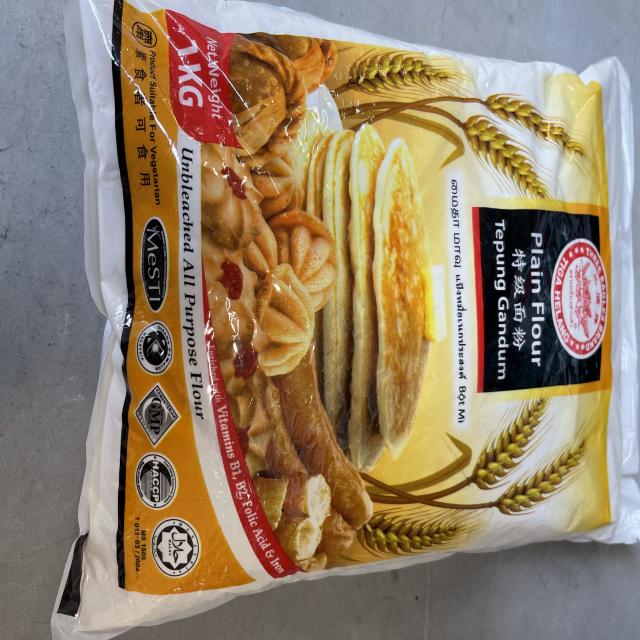object_name: (83, 0, 638, 594)
